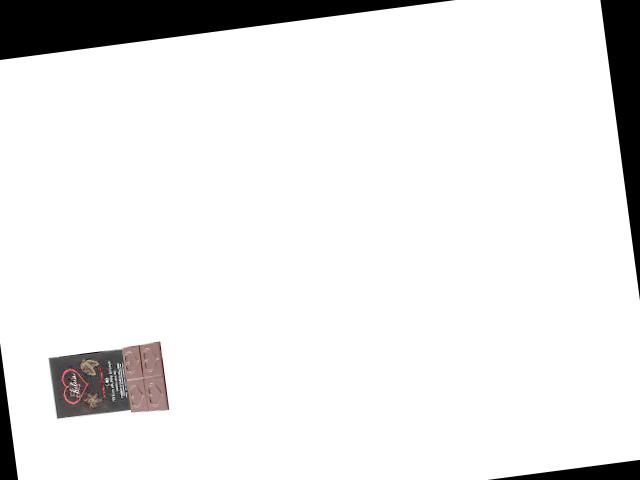chocolate: (47, 338, 174, 429)
